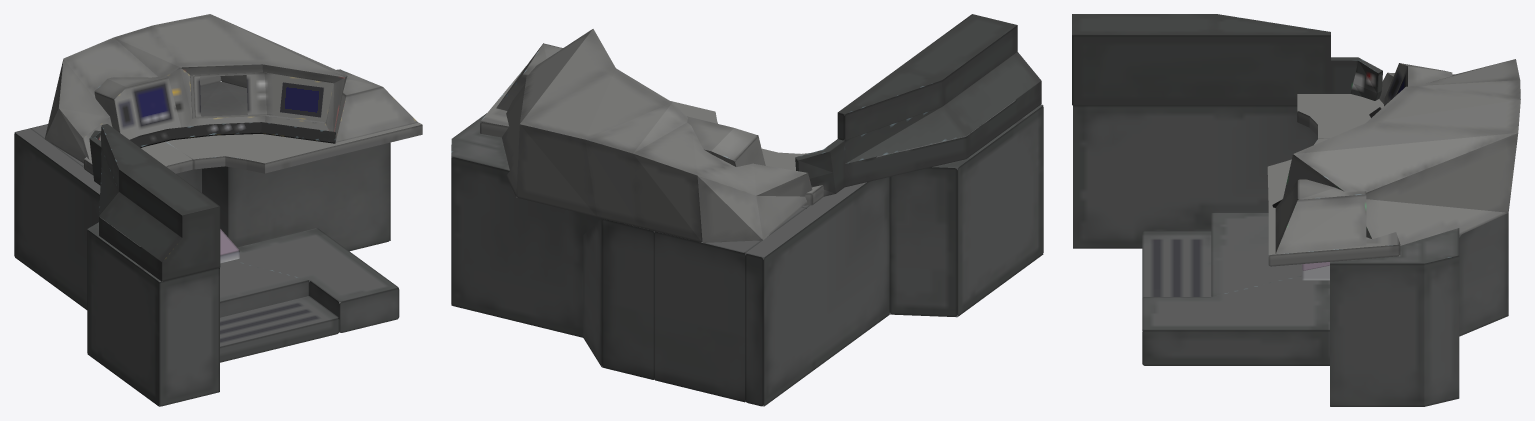
File: driving_console.obj
3 views of the same model, side by side, from view 1: azimuth 30°, elevation 25°; view 2: azimuth 150°, elevation 25°; view 3: azimuth 270°, elevation 25° (orthographic). The views are drawn at different scales.
Bounding box in the file's own units: 2.92 × 1.54 × 2.84.
